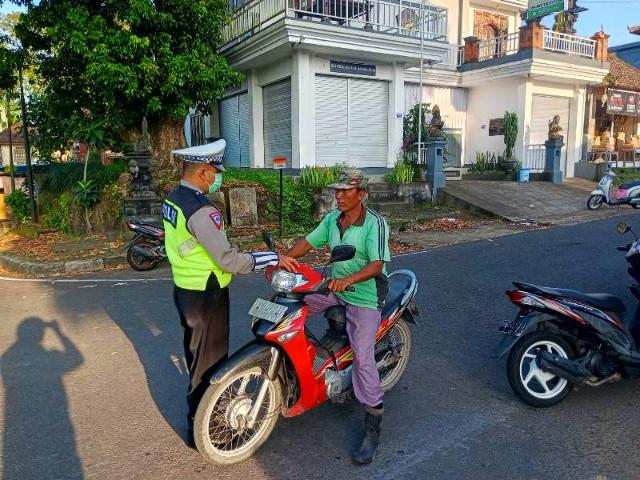motor: (193, 228, 422, 469), (500, 240, 640, 411), (589, 169, 640, 212)
non-helm: (327, 170, 369, 213)
